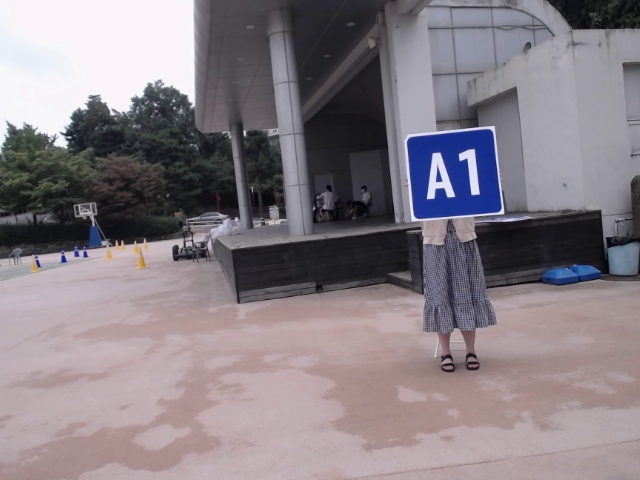delivery_a1: (406, 126, 504, 222)
